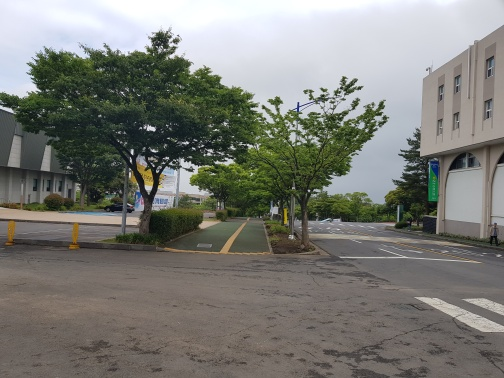Gym: (1, 110, 85, 211)
Main Building of University: (420, 29, 504, 239), (431, 52, 466, 147), (428, 154, 442, 212)
